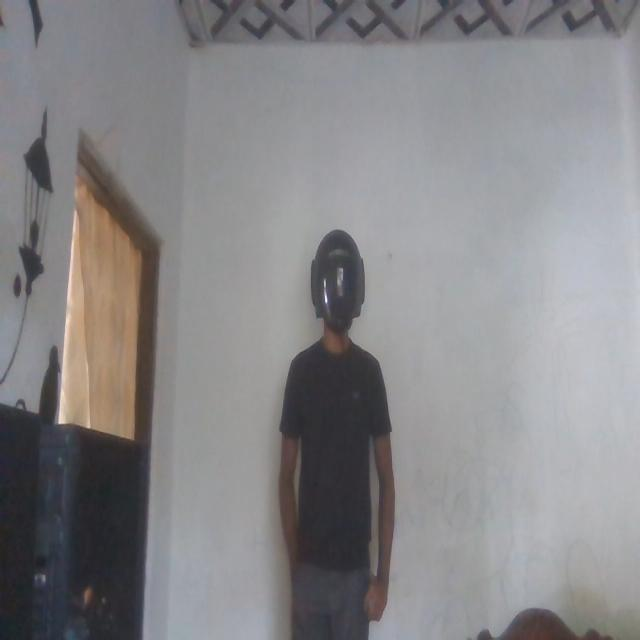Helmet_Wearer: (298, 222, 368, 358)
Person: (276, 226, 396, 640)
